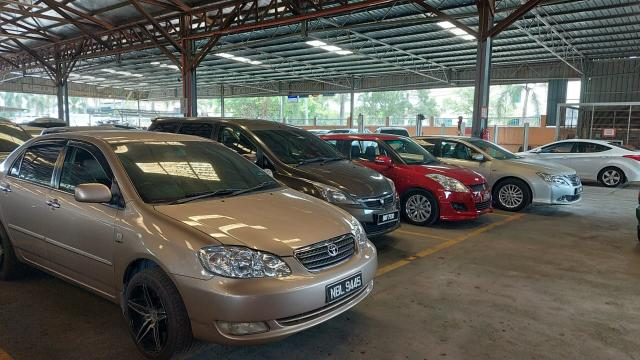License_Plate: (326, 268, 366, 309)
car: (1, 124, 381, 359), (153, 114, 402, 248), (324, 124, 491, 224)
